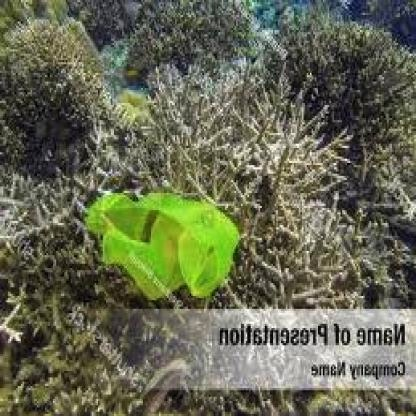pbag: (84, 191, 242, 302)
